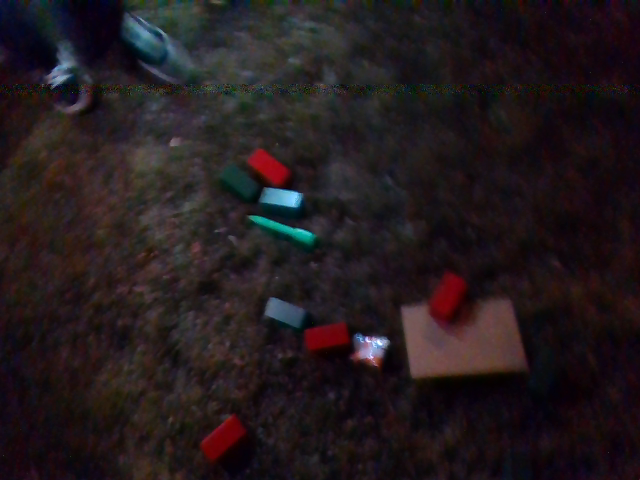Probe: (244, 205, 326, 249)
